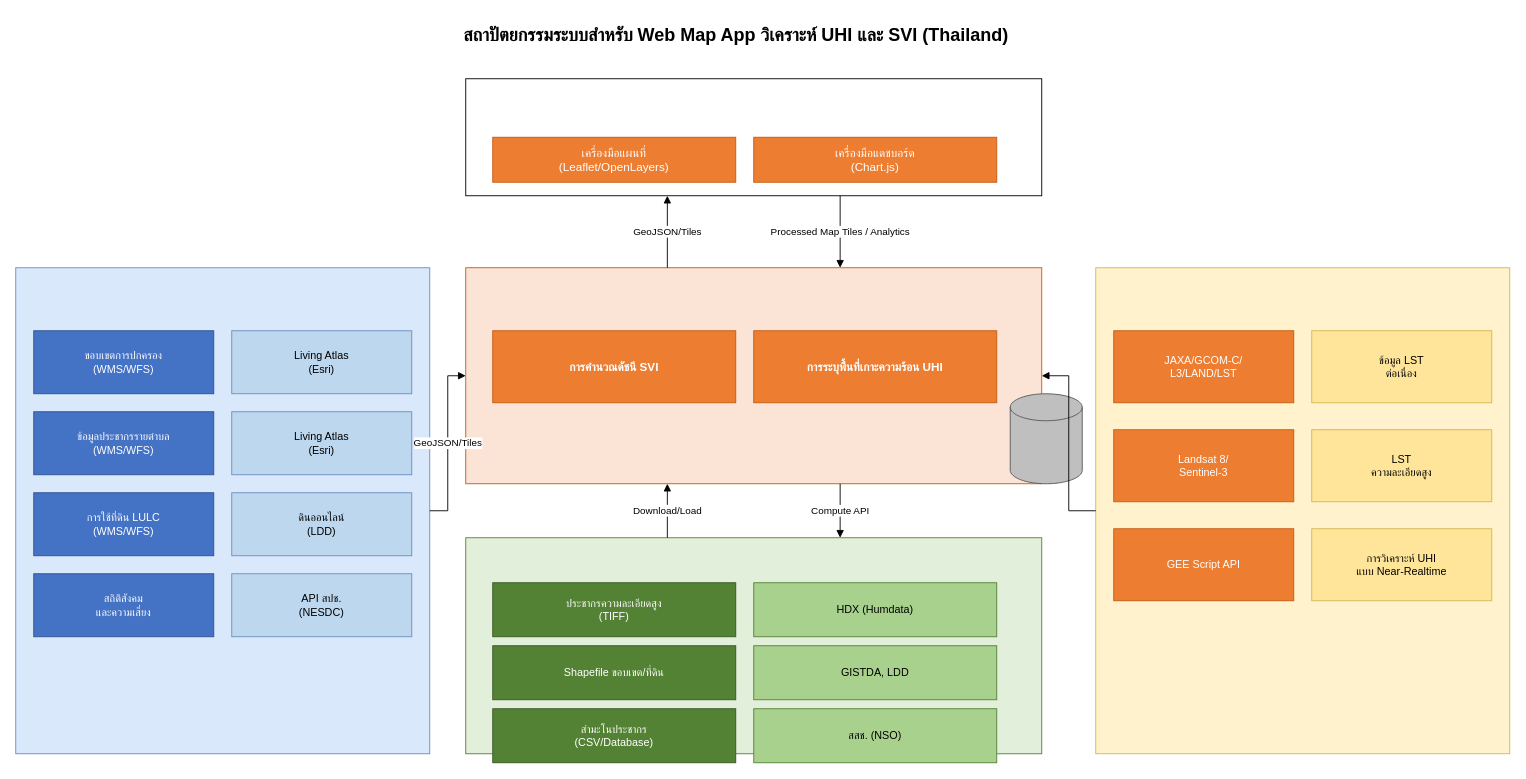
Some shapes in this 1526 by 779 pixel diagram are drawn without their labels. The box of each missing label's shape, as (x1, y1, x2, y2) in pixels:
Frontend: เว็บแอปพลิเคชัน (Web Map App): (465, 78, 1042, 196)
Integration & Processing Layer ชั้นบูรณาการและประมวลผล: (465, 267, 1042, 484)
User-Generated Data/Cache: (1009, 393, 1082, 484)
แหล่งข้อมูล Google Earth Engine (GEE Datasets & API): (1095, 267, 1510, 754)
แหล่งข้อมูลสแตติก (Static Data Sources - on Server): (465, 537, 1042, 754)
แหล่งข้อมูลเว็บเซอร์วิส (Web Service Data Sources): (15, 267, 430, 754)
